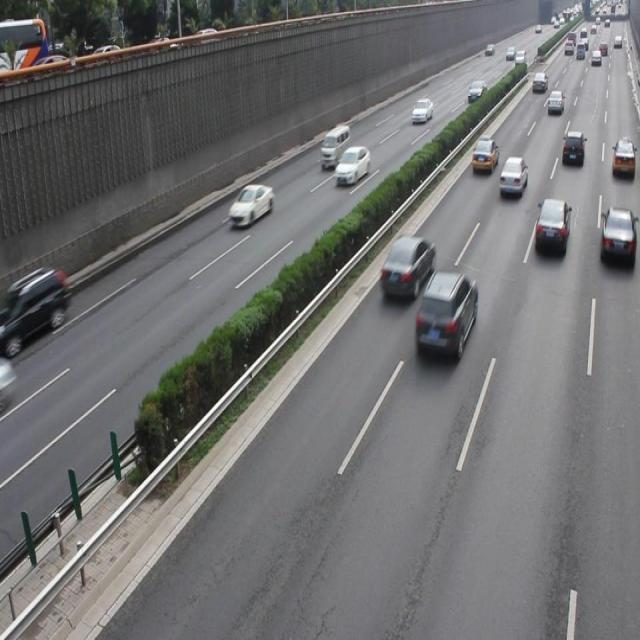car: (0, 266, 72, 356), (414, 268, 477, 355), (378, 234, 436, 298), (598, 204, 640, 264), (532, 196, 570, 253), (228, 181, 274, 226), (334, 145, 369, 186), (497, 156, 527, 198), (610, 140, 640, 180), (470, 136, 497, 174), (560, 130, 584, 166), (1, 355, 16, 412)
truck: (320, 125, 350, 168)
